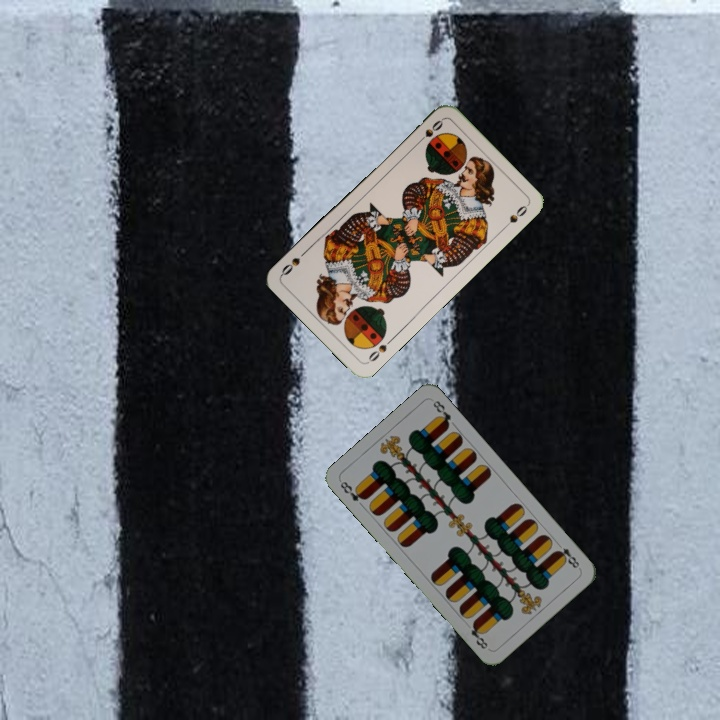E8: (552, 538, 583, 572), (336, 477, 369, 504)
SO: (413, 115, 446, 147), (363, 334, 396, 366)
